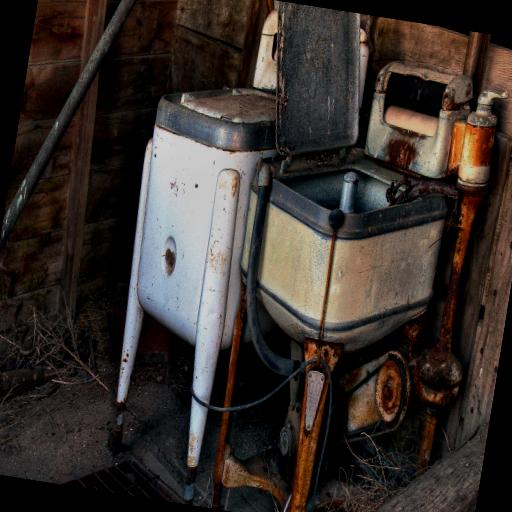corrosion: (269, 230, 364, 512), (398, 189, 482, 471), (322, 345, 422, 444), (156, 88, 275, 151), (221, 282, 251, 407), (457, 110, 497, 185), (208, 411, 233, 507), (371, 358, 405, 421), (397, 308, 426, 362), (402, 176, 460, 203), (382, 173, 416, 206), (385, 137, 418, 169), (163, 248, 175, 264)
